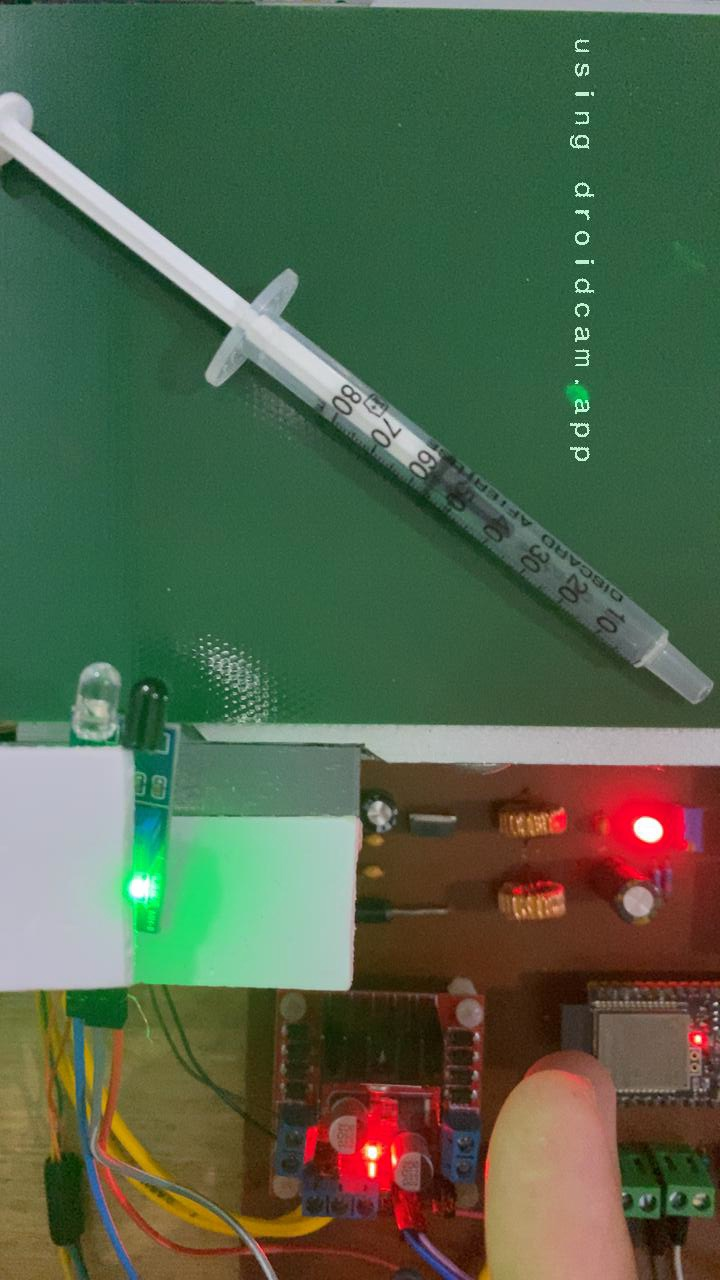syringe: (0, 85, 452, 485)
